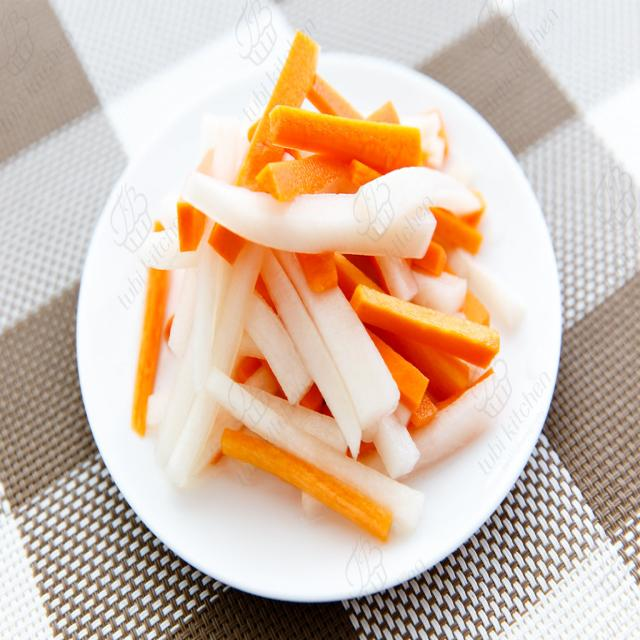do chua: (141, 33, 506, 540)
